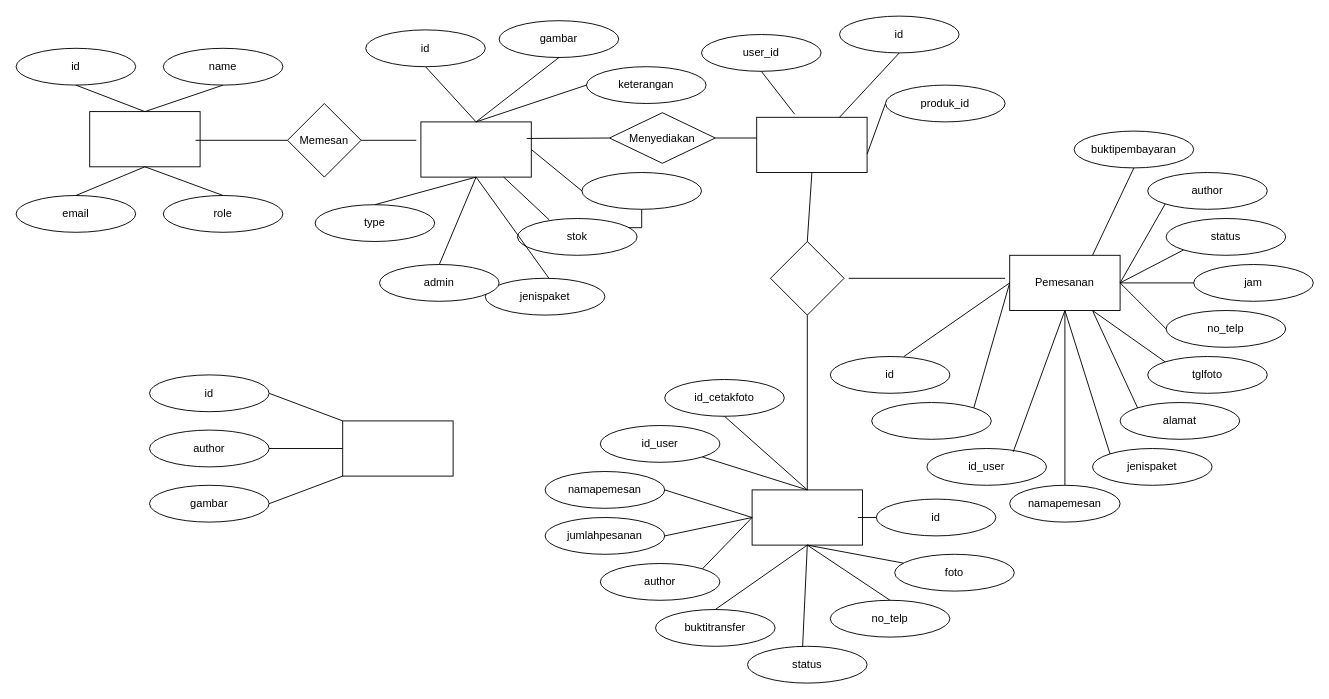
Some shapes in this 1329 by 699 pixel diagram are drawn without their labels. The centre of each missing label's shape, as x and y in pixels:
"Carts" goes at (x=811, y=144).
"DetailCetakFoto" goes at (x=806, y=517).
"Galeri Foto" goes at (x=397, y=448).
"harga" goes at (x=641, y=190).
"Memiliki" goes at (x=807, y=278).
"Photo" goes at (x=475, y=149).
"photo_id" goes at (x=931, y=420).
"User" goes at (x=144, y=139).
